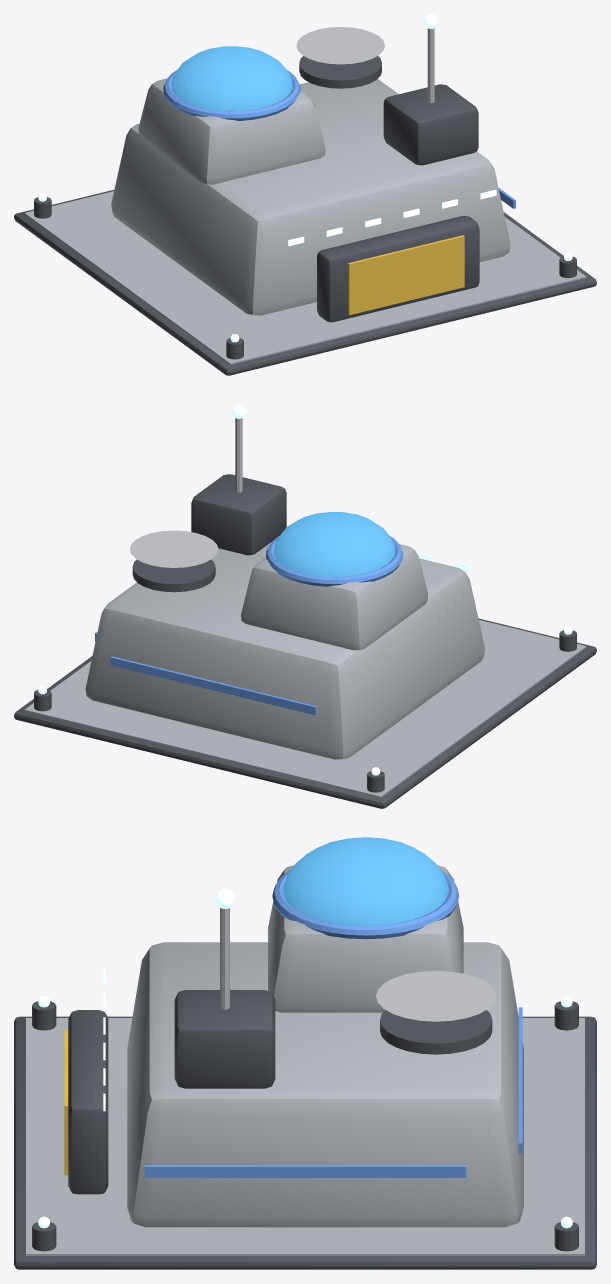
The model's file is cy_hum.glb.
3 views of the same model, one above another, from view 1: azimuth 30°, elevation 25°; view 2: azimuth 150°, elevation 25°; view 3: azimuth 270°, elevation 25° (orthographic). The views are drawn at different scales.
Parts seen in each view (by area): view 1: cy_hum; view 2: cy_hum; view 3: cy_hum.
Boxes of the visible parts, <box> form: cy_hum: <box>14,14,596,375</box>; cy_hum: <box>14,404,596,808</box>; cy_hum: <box>14,837,596,1269</box>.
Size of the model in its own units: 2.9 by 1.77 by 2.9.
